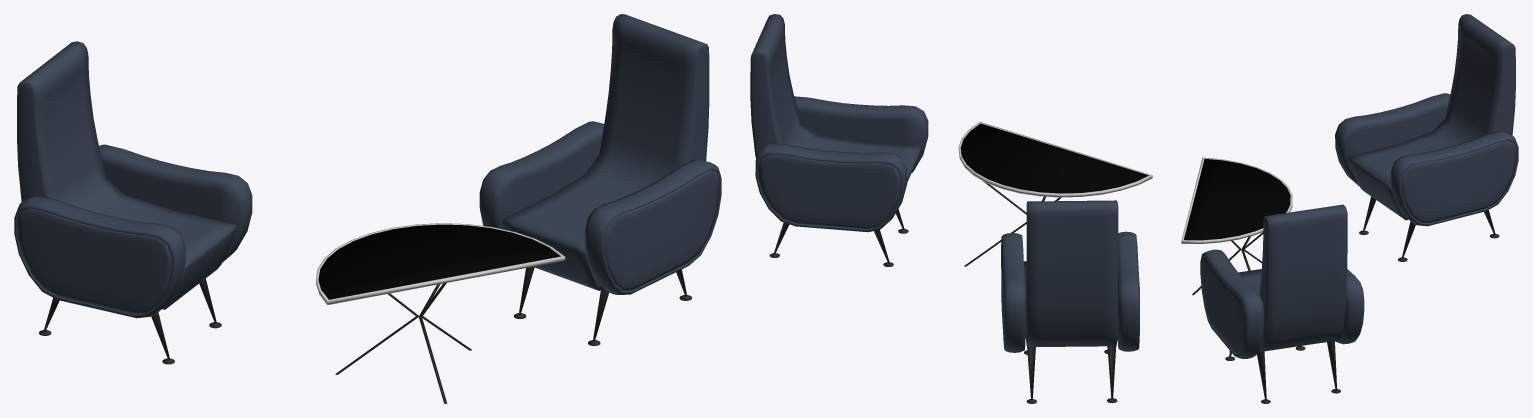
Rendered from armchair_and_table3.obj.
3 renders of one model, left to right at view 1: azimuth 30°, elevation 25°; view 2: azimuth 150°, elevation 25°; view 3: azimuth 270°, elevation 25°, orthographic. The views are drawn at different scales.
Parts seen in each view (by area): view 1: sofa_zul.001_Cube.049, sofa_zul.001_Cube.001, Circle, Circle.001, Tube.001_Tube.005, sofa_zul_potas.001_Tube.003, sofa_zul_potas.001_Tube.000; view 2: sofa_zul.001_Cube.049, sofa_zul.001_Cube.001, Circle, Circle.001, sofa_zul_potas.001_Tube.000, sofa_zul_potas.001_Tube.003; view 3: sofa_zul.001_Cube.001, sofa_zul.001_Cube.049, Circle, Circle.001, sofa_zul_potas.001_Tube.003, sofa_zul_potas.001_Tube.000.
Boxes of the visible parts, x1,y1,x2,y2 form: sofa_zul.001_Cube.049: [479, 14, 721, 294]; sofa_zul.001_Cube.001: [14, 41, 252, 318]; Circle: [318, 224, 560, 299]; Circle.001: [316, 223, 565, 304]; Tube.001_Tube.005: [335, 283, 471, 403]; sofa_zul_potas.001_Tube.003: [513, 267, 692, 345]; sofa_zul_potas.001_Tube.000: [39, 278, 221, 364]; sofa_zul.001_Cube.049: [750, 14, 928, 232]; sofa_zul.001_Cube.001: [1001, 200, 1139, 352]; Circle: [960, 123, 1148, 193]; Circle.001: [958, 122, 1152, 197]; sofa_zul_potas.001_Tube.000: [1024, 346, 1117, 403]; sofa_zul_potas.001_Tube.003: [769, 209, 908, 266]; sofa_zul.001_Cube.001: [1335, 14, 1518, 226]; sofa_zul.001_Cube.049: [1200, 204, 1364, 358]; Circle: [1184, 159, 1290, 240]; Circle.001: [1181, 157, 1292, 243]; sofa_zul_potas.001_Tube.003: [1225, 341, 1340, 403]; sofa_zul_potas.001_Tube.000: [1359, 196, 1499, 261].
Bounding box in the file's own units: 2.28 × 0.949 × 1.52.
